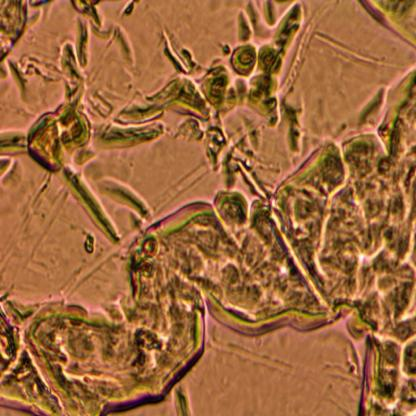Normal: (0, 147, 416, 416)
